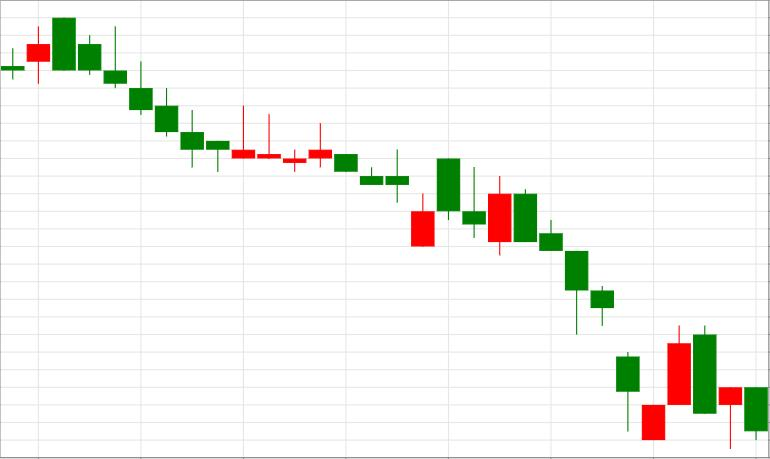hammer_rise: (437, 158, 588, 334)
